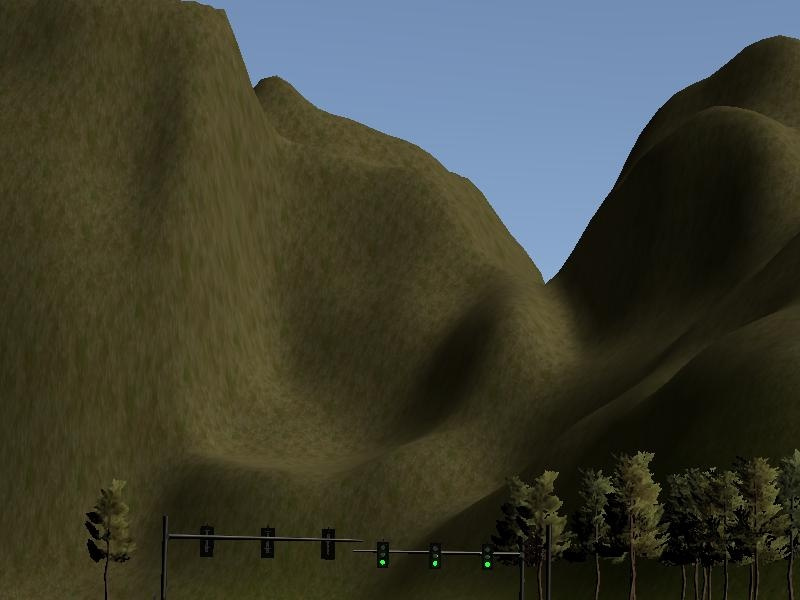green: (480, 538, 496, 578), (427, 538, 443, 571), (375, 541, 390, 571)
